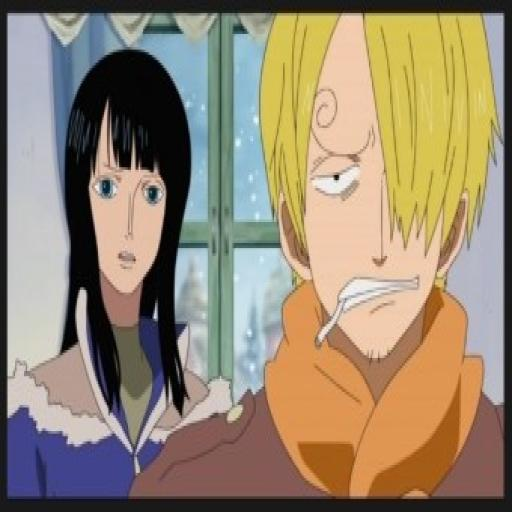NicoRobin: (53, 44, 200, 408)
sanji: (250, 10, 503, 358)
